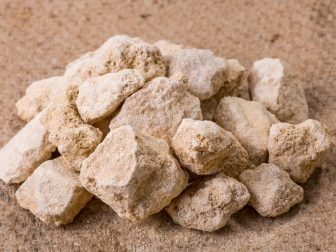obstacle: (0, 35, 328, 230)
